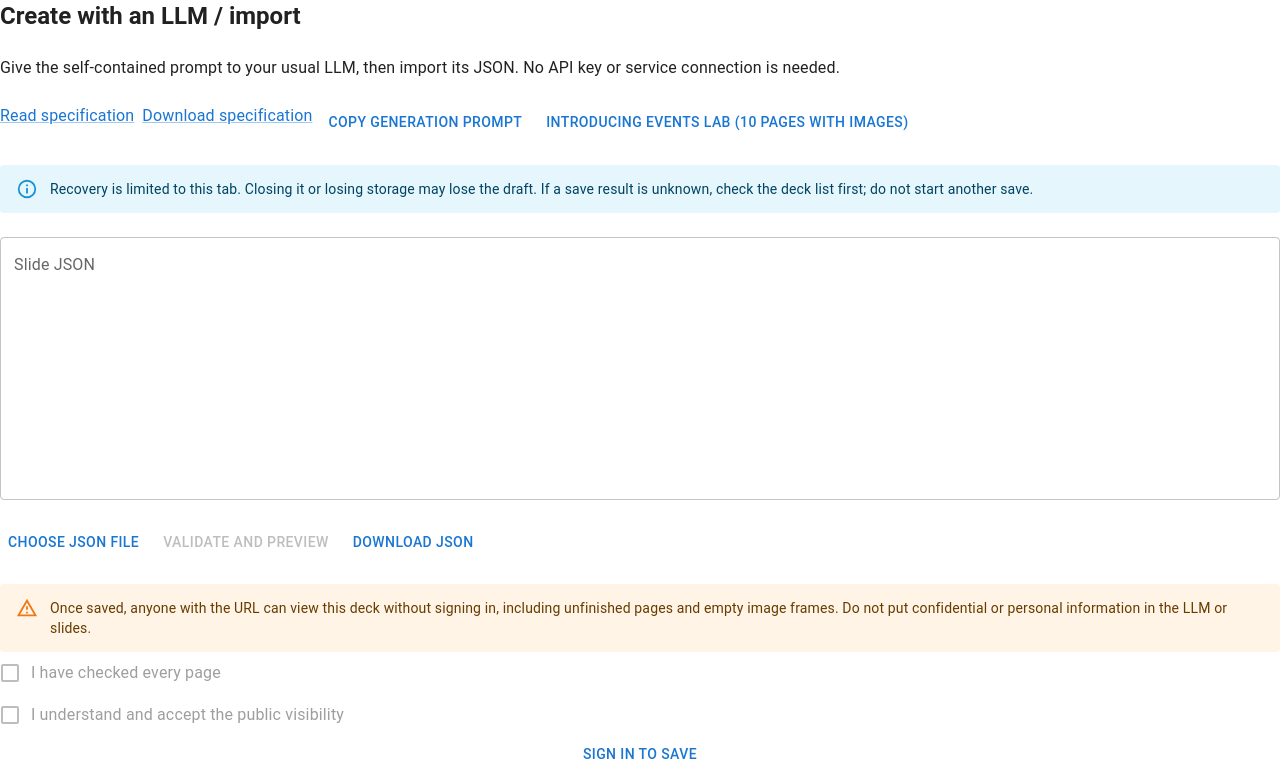
DeckImportPage real user entry › offers only the new spec, prompt and ten-page sample in en
The width and height of the screenshot is (1280, 773).
Click the button "Copy generation prompt".
click(425, 122)  # box x1=320 y1=104 x2=530 y2=140
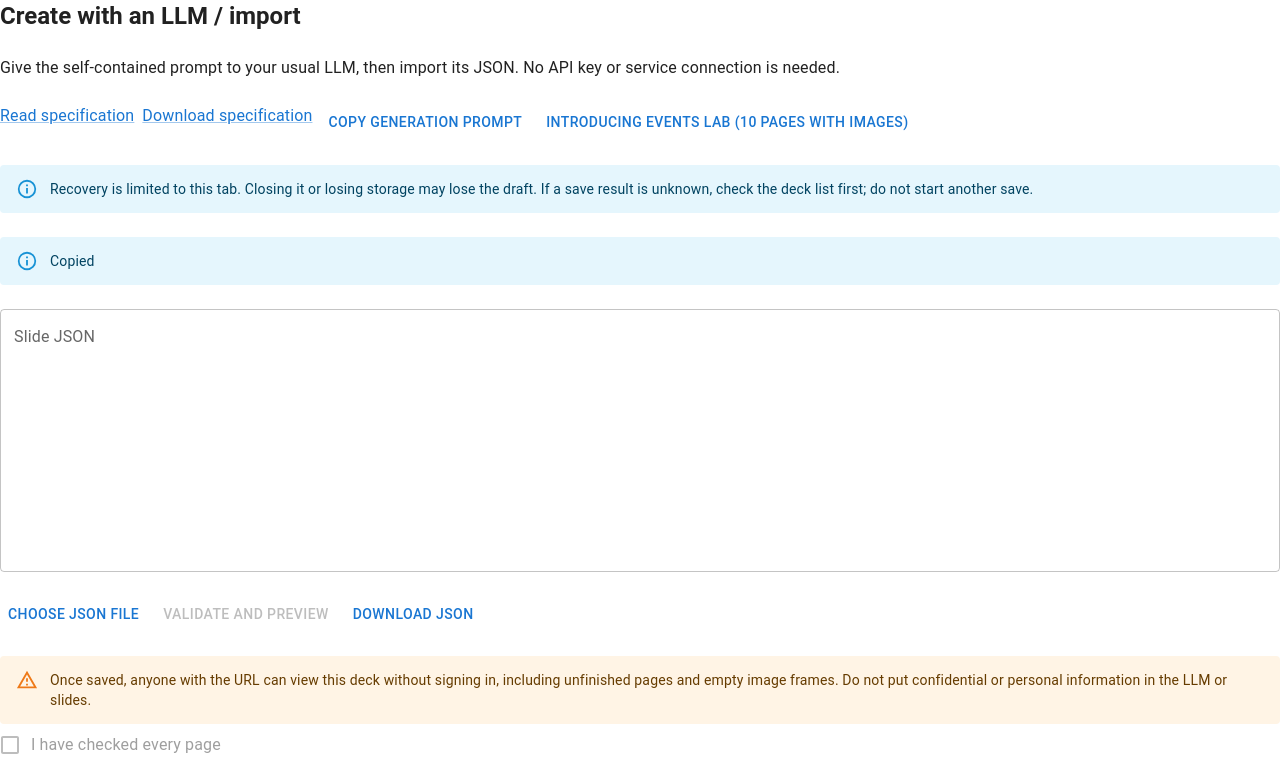
Click the button "Introducing events lab (10 pages with images)".
click(727, 122)  # box x1=538 y1=104 x2=917 y2=140
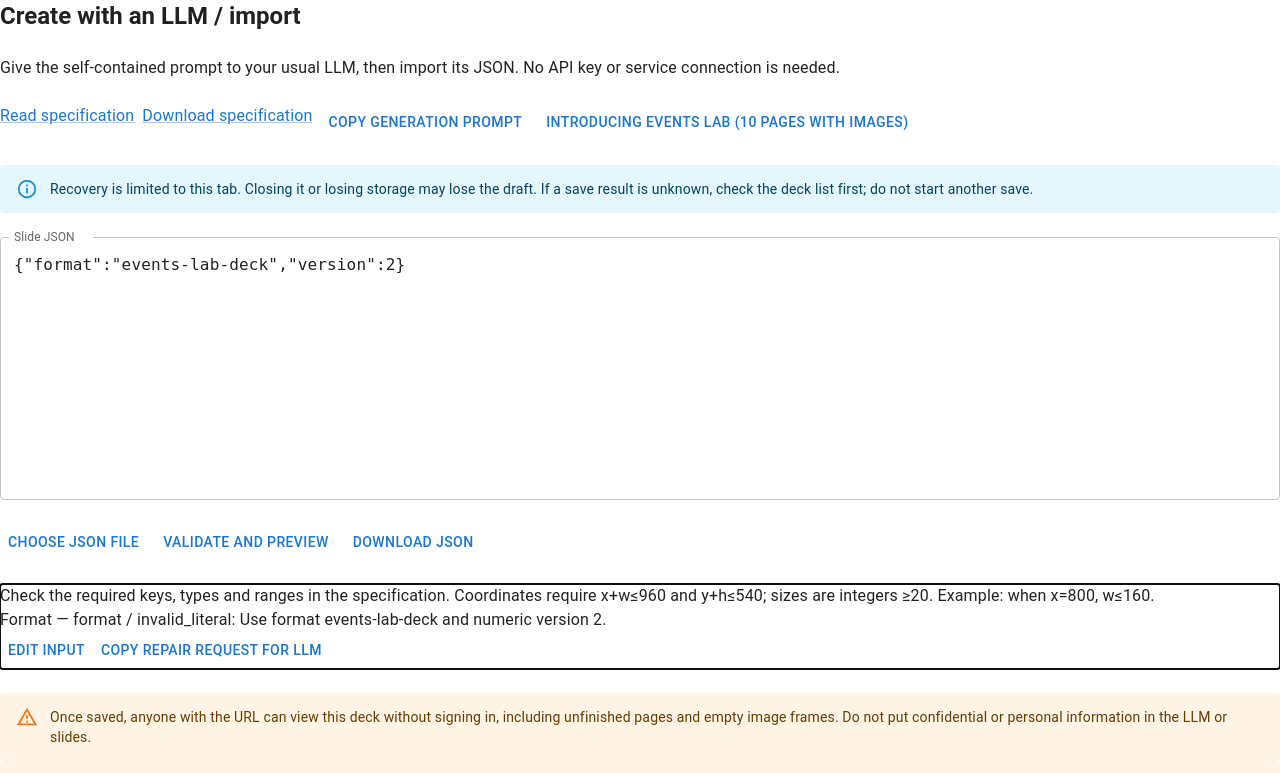
Check: the text box labelled "Slide JSON" holds "{\"format\":\"events-lab-deck\",\"version\":2}", box x1=14 y1=253 x2=1266 y2=483
